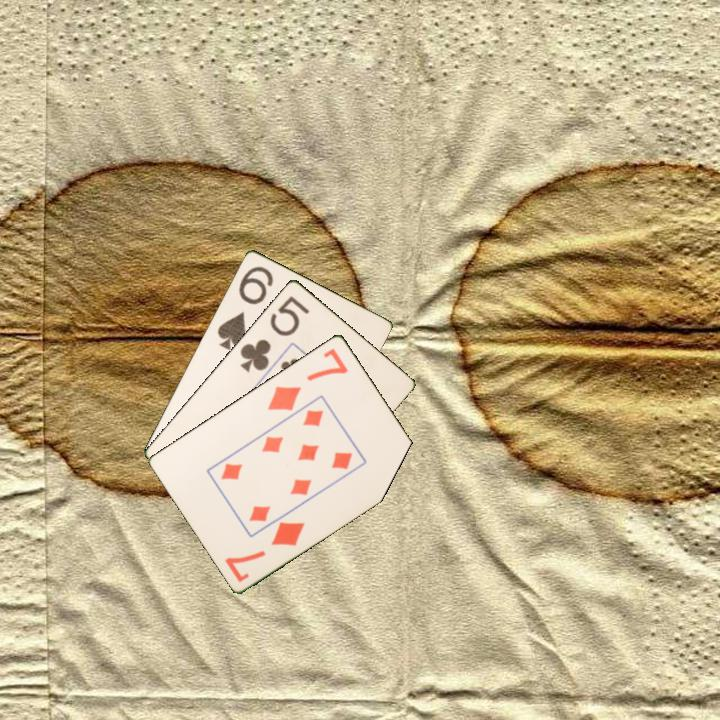5c: (236, 292, 312, 375)
6s: (214, 262, 276, 353)
7d: (264, 344, 351, 413), (221, 518, 308, 585)
